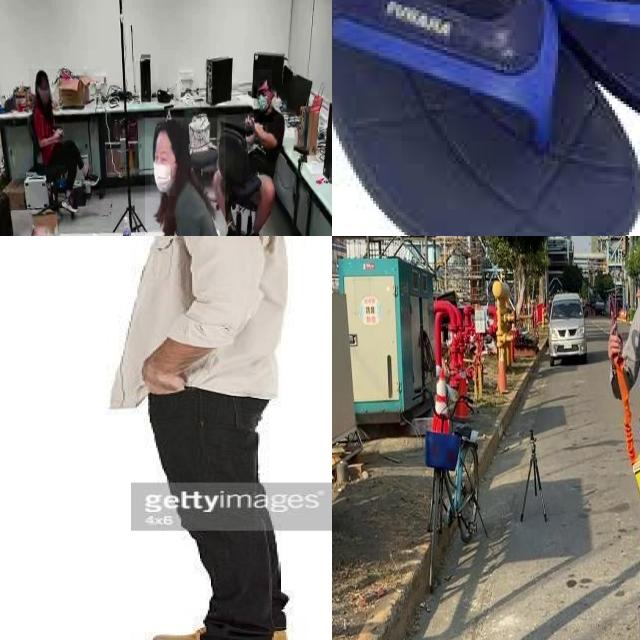Harness: (613, 359, 640, 498)
Sandals: (332, 0, 640, 236)
face_mask: (150, 150, 176, 196), (254, 87, 274, 122)
hand_noglove: (245, 113, 259, 132), (252, 121, 264, 141), (51, 126, 63, 142)
head_nohelmet: (152, 119, 184, 139), (254, 70, 272, 86), (34, 70, 49, 81)
person: (106, 236, 292, 640), (215, 71, 282, 236), (29, 69, 101, 217), (145, 117, 226, 236)
shoes: (220, 213, 238, 236), (244, 228, 263, 236)
